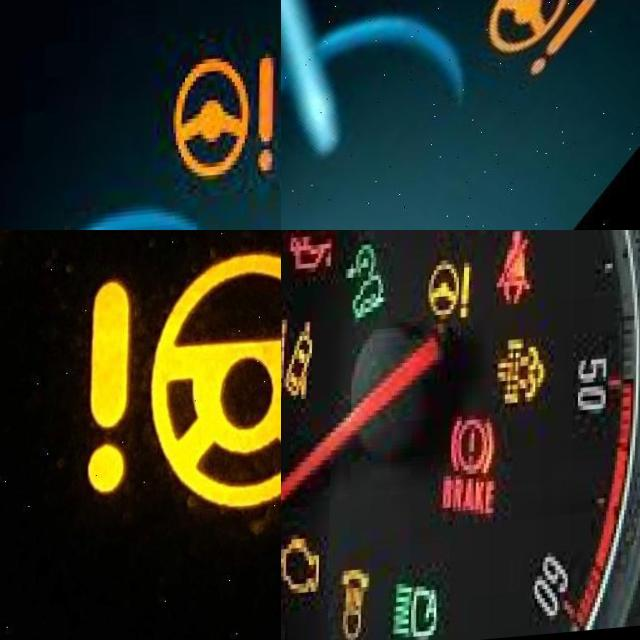Electronic Power Steering: (172, 60, 276, 192), (428, 262, 472, 329)
Electronic Power Steering Warning: (86, 242, 281, 525)
Seat Belt: (498, 233, 533, 309)
